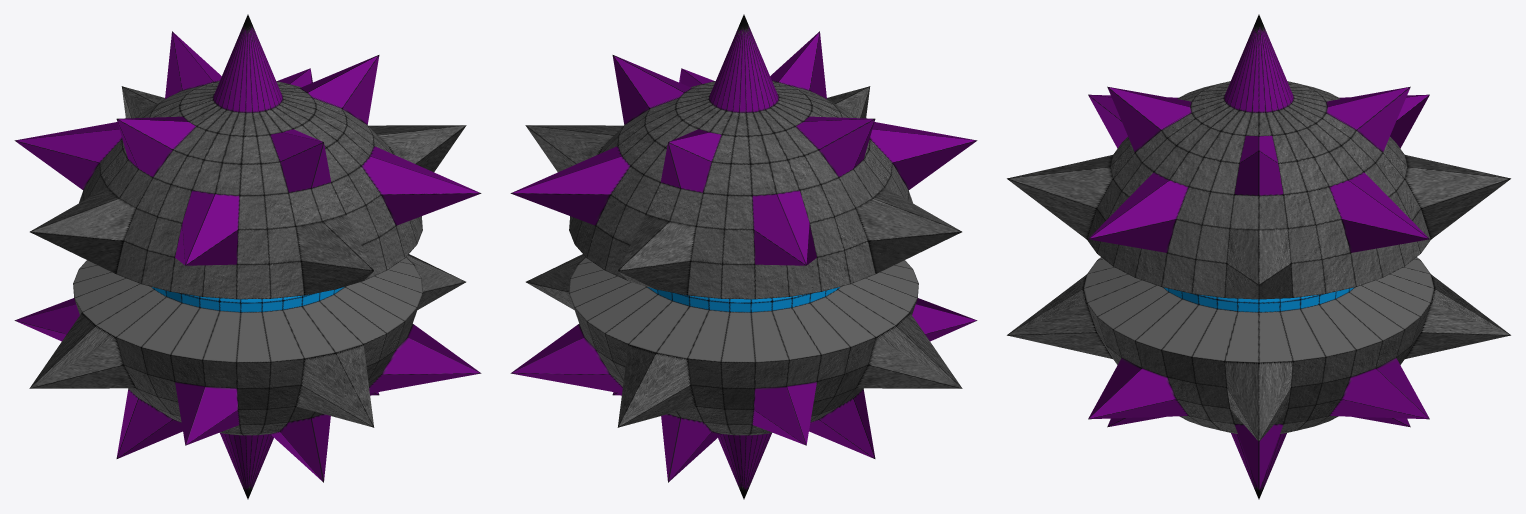
The model's file is Mine.fbx.
3 views of the same model, side by side, from view 1: azimuth 30°, elevation 25°; view 2: azimuth 150°, elevation 25°; view 3: azimuth 270°, elevation 25° (orthographic).
Visible parts, largest first — view 1: Sphere; view 2: Sphere; view 3: Sphere.
Boxes of the visible parts, x1,y1,x2,y2 form: Sphere: [14, 14, 481, 499]; Sphere: [510, 14, 977, 499]; Sphere: [1007, 14, 1510, 499].
Bounding box in the file's own units: 565 × 600 × 565.
